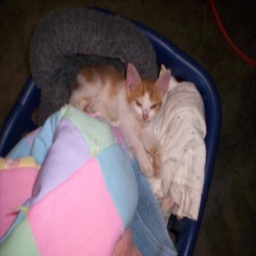cat: (68, 55, 175, 182)
